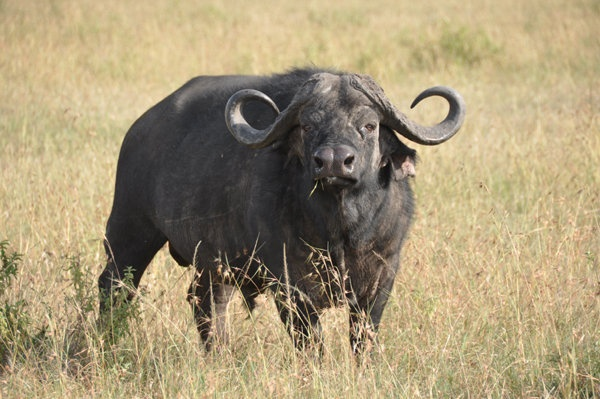buffalo: (98, 70, 462, 367)
